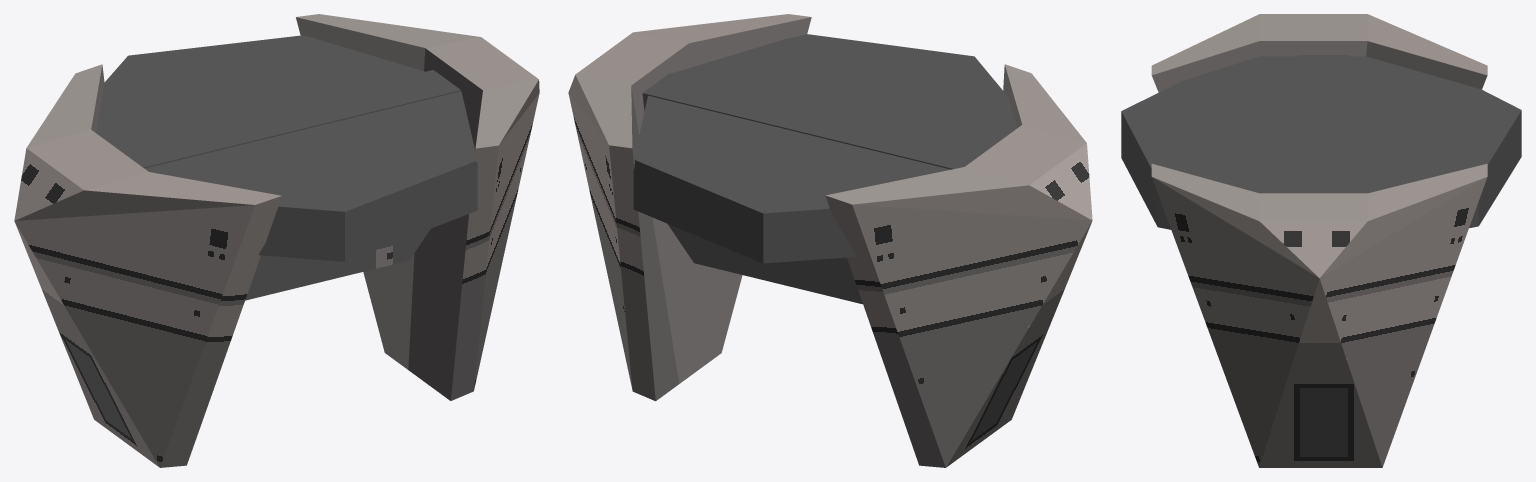
The model's file is HipGuards.gltf.
The picture shows the model from 3 angles, left to right: view 1: azimuth 30°, elevation 25°; view 2: azimuth 150°, elevation 25°; view 3: azimuth 270°, elevation 25°; orthographic projection. The views are drawn at different scales.
Visible parts, largest first — view 1: BackGuard, Base, FrontGuard, LowerHipSeparator; view 2: BackGuard, Base, FrontGuard, LowerHipSeparator; view 3: FrontGuard, Base, BackGuard, LowerHipSeparator.
Part boxes in pixels (x1,y1,x2,y2): BackGuard: (14,64,281,467); Base: (96,35,477,261); FrontGuard: (296,14,539,400); LowerHipSeparator: (116,70,460,300); BackGuard: (825,64,1092,467); Base: (633,34,1016,263); FrontGuard: (568,14,811,401); LowerHipSeparator: (642,73,986,304); FrontGuard: (1151,163,1487,467); Base: (1121,56,1521,229); BackGuard: (1151,14,1487,92); LowerHipSeparator: (1297,55,1349,193).
Bounding box in the file's own units: 0.6854 × 0.3774 × 0.4842.
Materials: 1 (1 with a texture image).
